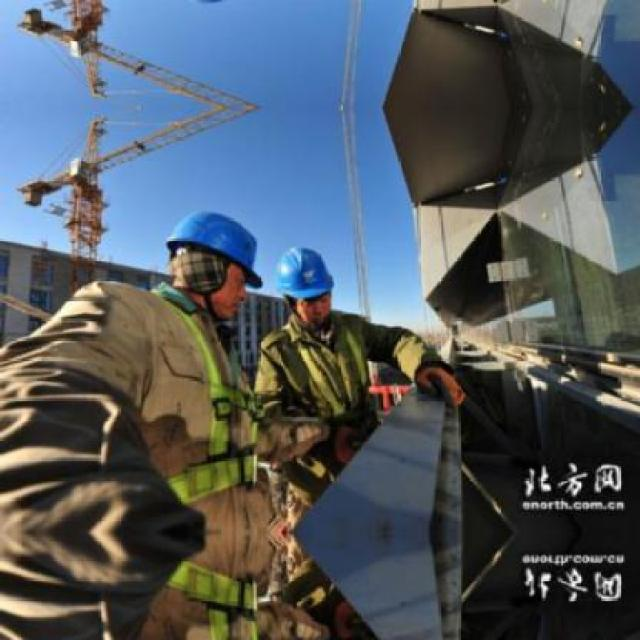helmet: (153, 203, 259, 311), (268, 239, 334, 327)
